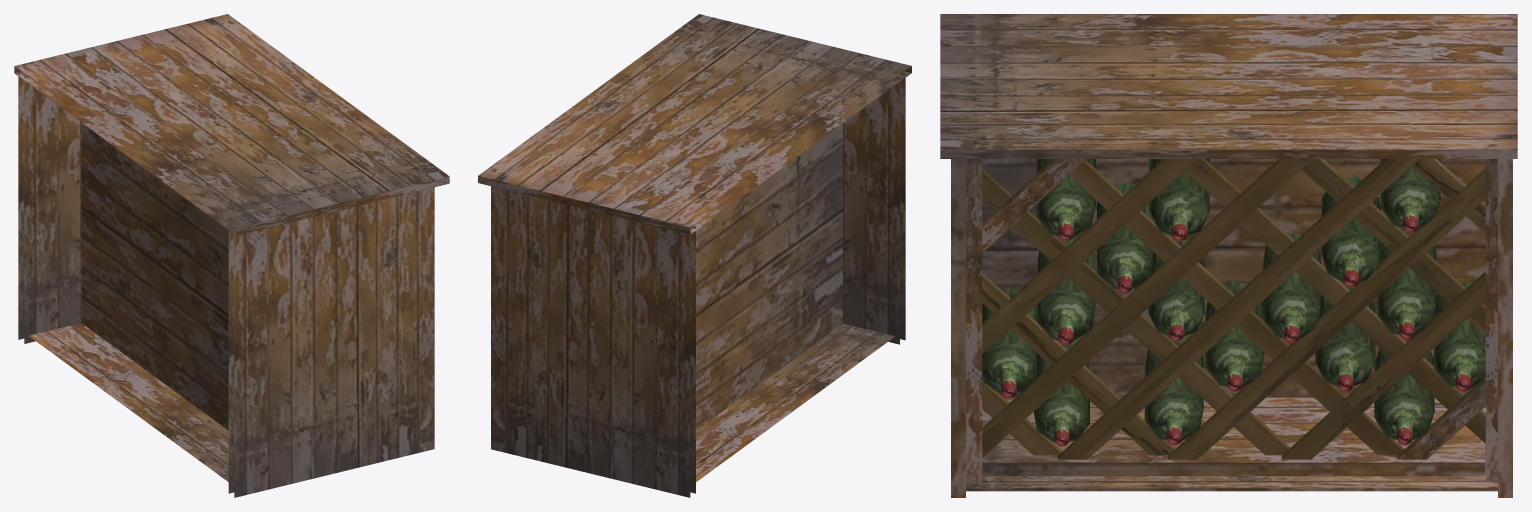
File: wineCase.fbx
3 views of the same model, side by side, from view 1: azimuth 30°, elevation 25°; view 2: azimuth 150°, elevation 25°; view 3: azimuth 270°, elevation 25° (orthographic). The views are drawn at different scales.
Parts seen in each view (by area): view 1: polySurface1908; view 2: polySurface1908; view 3: polySurface1908.
Boxes of the visible parts, x1,y1,x2,y2 form: polySurface1908: [14, 14, 449, 497]; polySurface1908: [478, 14, 911, 497]; polySurface1908: [940, 14, 1517, 497].
Size of the model in its own units: 97.33 by 119 by 175.
